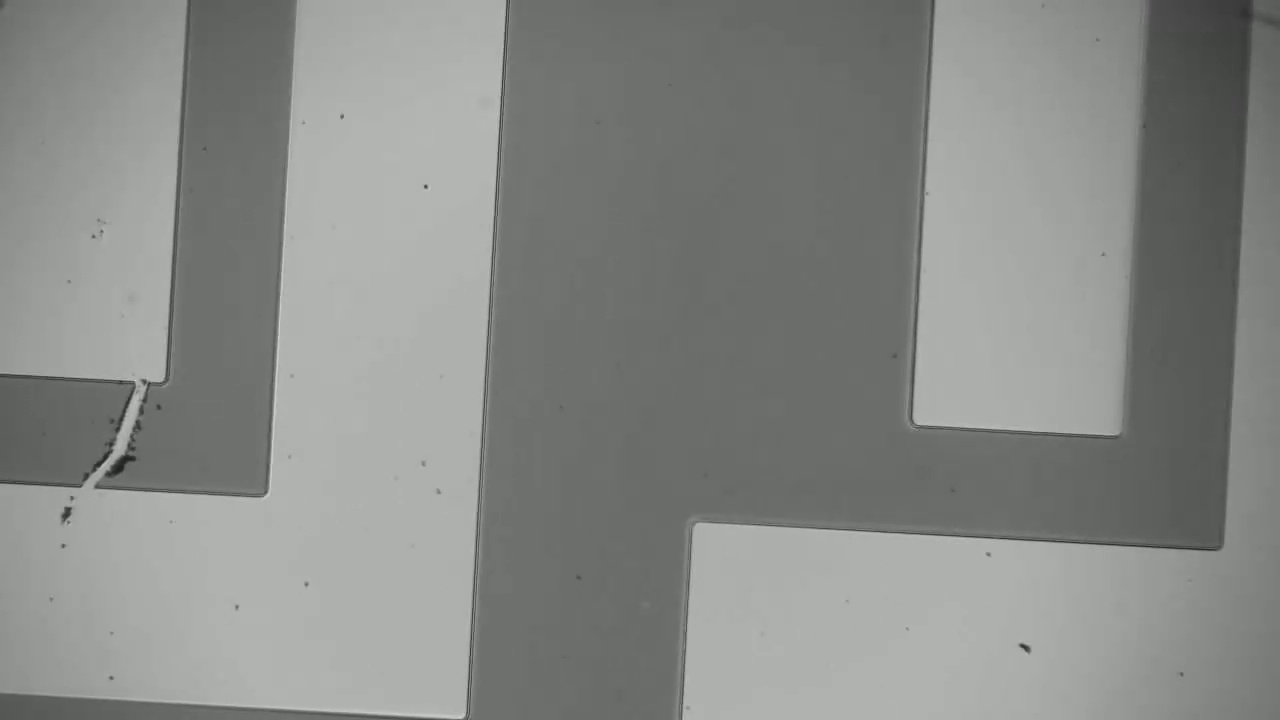Short_circuit: (43, 375, 163, 510)
